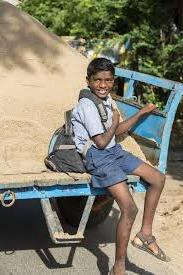Human: (69, 54, 176, 275)
